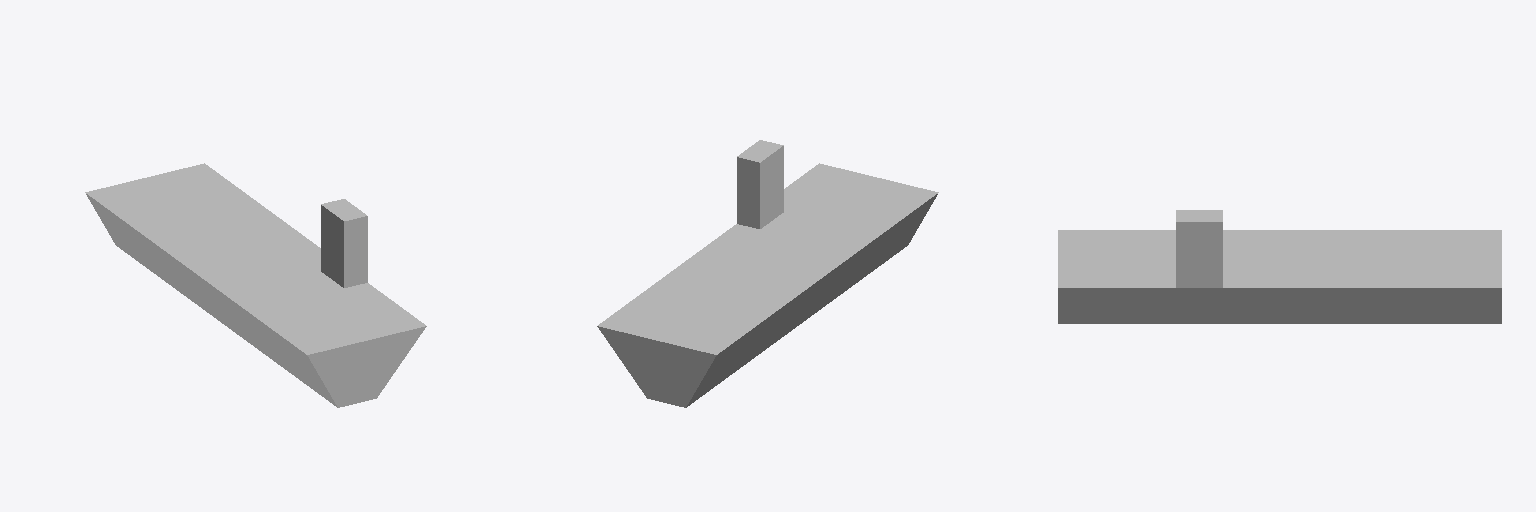
The model's file is temp_carrier_collision_mesh.obj.
The picture shows the model from 3 angles: view 1: azimuth 30°, elevation 25°; view 2: azimuth 150°, elevation 25°; view 3: azimuth 270°, elevation 25°; orthographic projection.
Parts seen in each view (by area): view 1: TempCarrierCollider_Cube.002; view 2: TempCarrierCollider_Cube.002; view 3: TempCarrierCollider_Cube.002.
Part boxes in pixels (left/top/right/bottom): TempCarrierCollider_Cube.002: left=85, top=163, right=426, bottom=407; TempCarrierCollider_Cube.002: left=597, top=140, right=938, bottom=407; TempCarrierCollider_Cube.002: left=1058, top=210, right=1501, bottom=323.
Bounding box in the file's own units: 6.18 × 6.27 × 19.86.